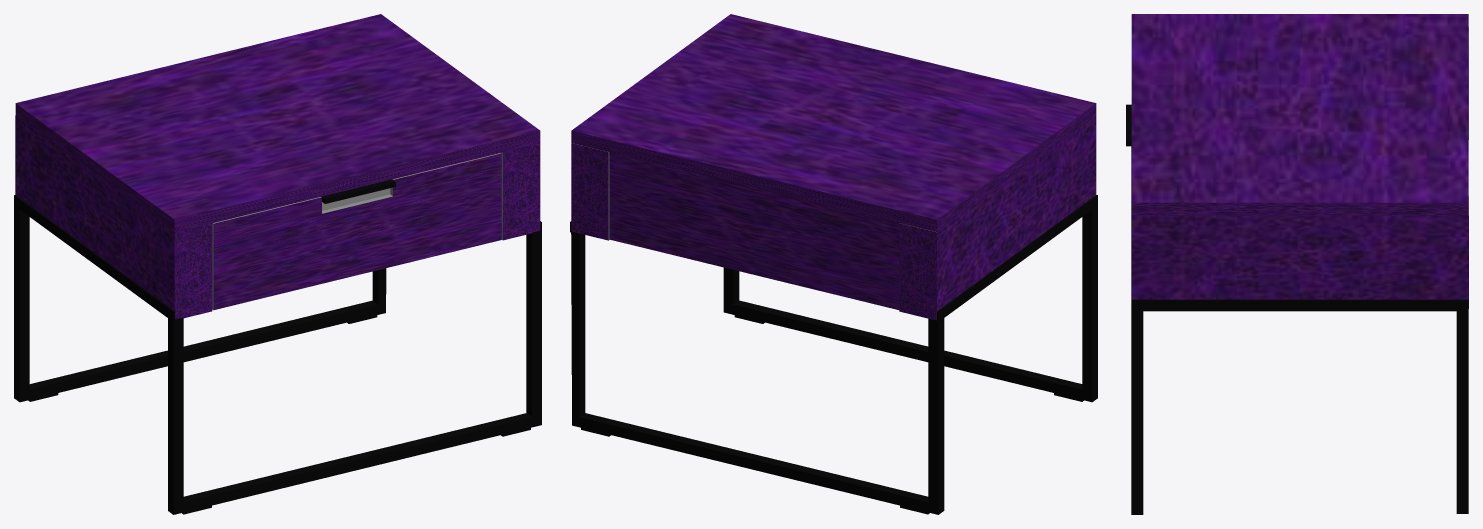
File: desk06.obj
3 renders of one model, left to right at view 1: azimuth 30°, elevation 25°; view 2: azimuth 150°, elevation 25°; view 3: azimuth 270°, elevation 25°, orthographic. The views are drawn at different scales.
Visible parts, largest first — view 1: Object.9, Object.12, Object.4, Object.10, Object.8, Object.6; view 2: Object.9, Object.11, Object.4, Object.10, Object.8; view 3: Object.9, Object.8, Object.4.
Part boxes in pixels (x1,y1,x2,y2): Object.9: [15, 14, 540, 232]; Object.12: [212, 153, 501, 310]; Object.4: [14, 195, 541, 514]; Object.10: [15, 115, 212, 319]; Object.8: [501, 143, 540, 240]; Object.6: [321, 179, 395, 203]; Object.9: [571, 14, 1096, 231]; Object.11: [609, 152, 899, 309]; Object.4: [570, 195, 1097, 514]; Object.10: [899, 116, 1096, 320]; Object.8: [571, 143, 609, 240]; Object.9: [1131, 14, 1468, 215]; Object.8: [1131, 196, 1468, 308]; Object.4: [1131, 146, 1468, 514].
Size of the model in its own units: 128 by 98.4 by 97.4.
13 materials, 1 textured.
